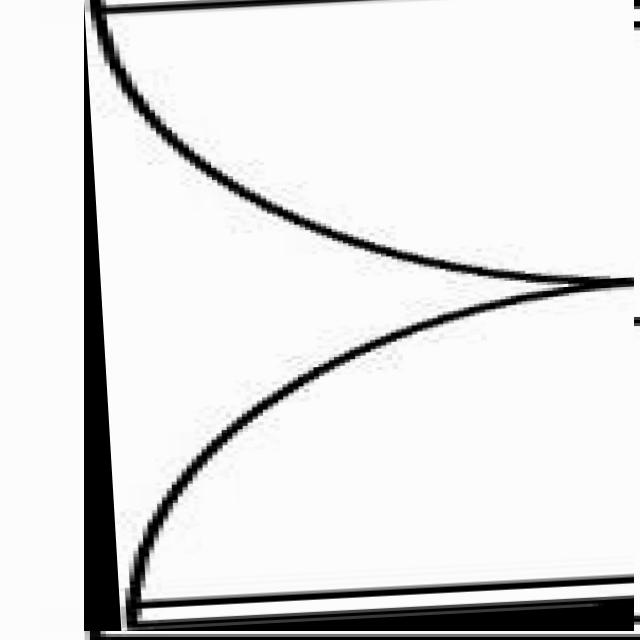door: (85, 0, 634, 631)
